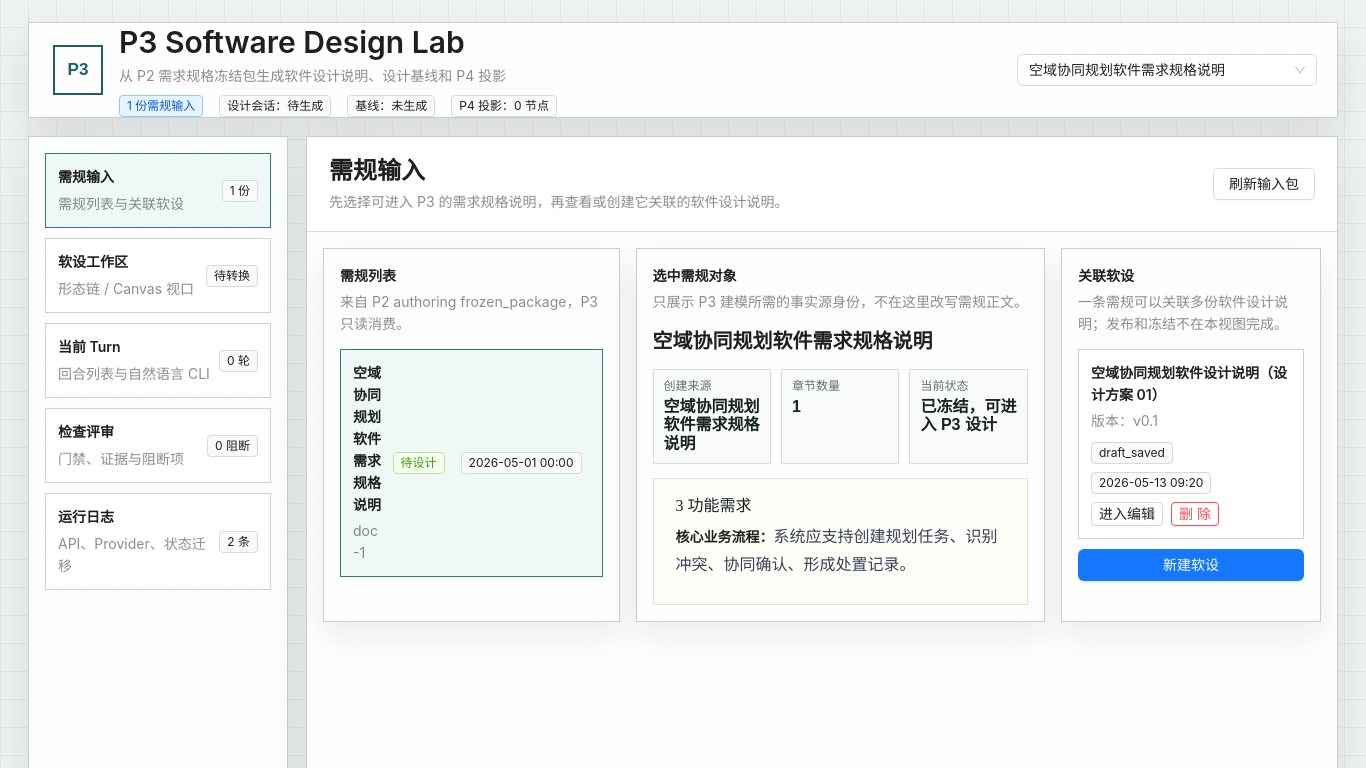
Test case: prefills new software design metadata from the selected requirement and existing related designs
Click the button "新建软设": coordinates (1191, 565) [1078,549,1304,581]
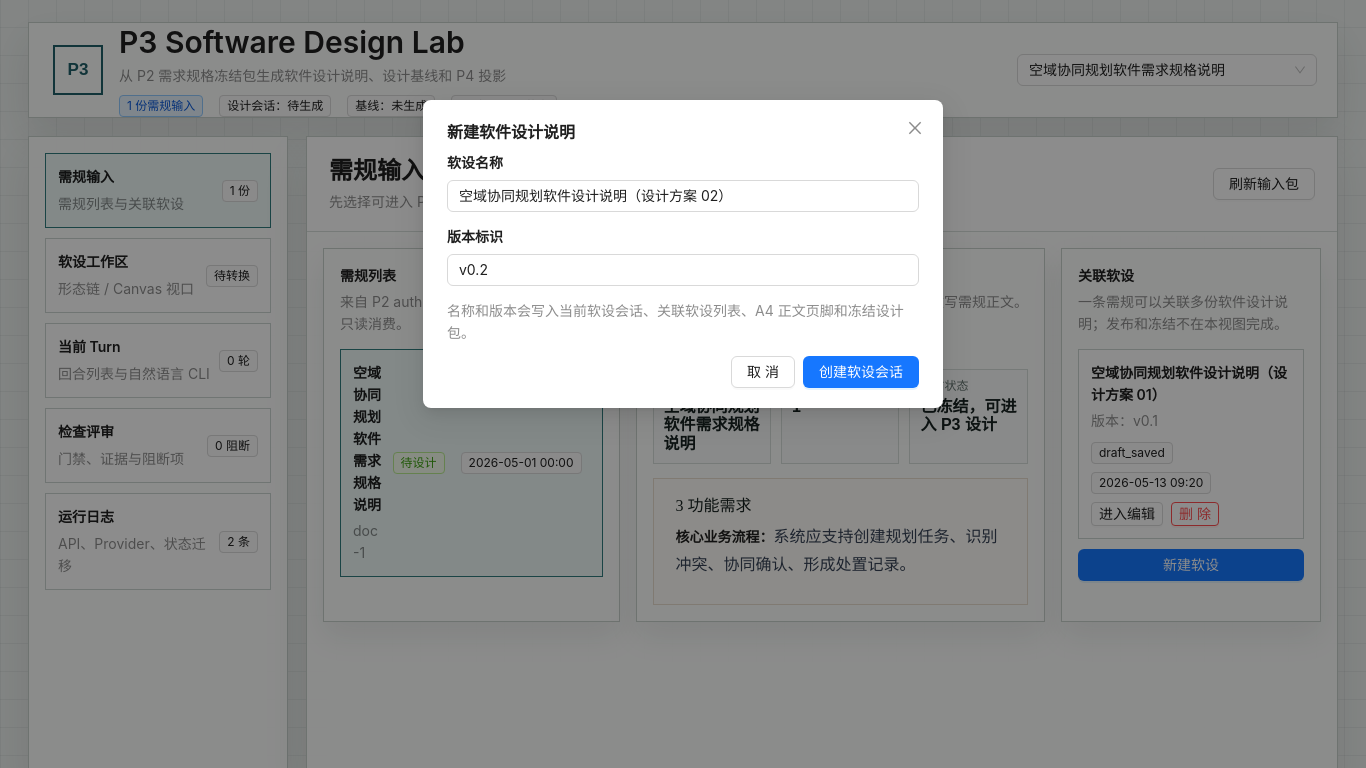
Expected: the dialog "新建软件设计说明" is shown, [423,100,943,432]
Expected: the field labelled "软设名称" holds "空域协同规划软件设计说明（设计方案 02）", [447,180,919,212]
Expected: the field labelled "版本标识" holds "v0.2", [447,254,919,286]
